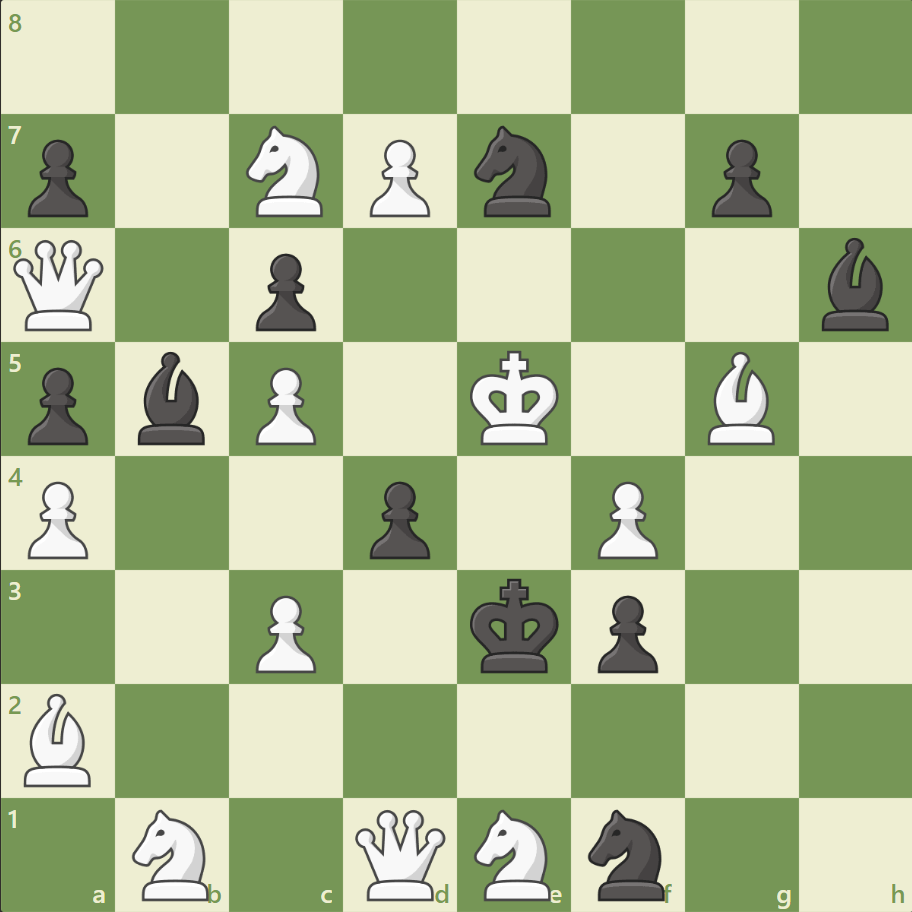B: (17, 687, 101, 790), (698, 347, 782, 449)
K: (465, 344, 565, 452)
N: (124, 802, 222, 904), (238, 121, 335, 223), (465, 802, 562, 904)
P: (247, 359, 322, 450), (20, 473, 95, 564), (247, 586, 322, 677), (361, 132, 435, 223), (588, 473, 662, 564)
Q: (10, 236, 109, 335), (351, 804, 450, 903)
b: (812, 233, 896, 336), (131, 347, 215, 449)
k: (465, 571, 565, 679)
n: (465, 121, 562, 223), (579, 802, 676, 904)
p: (20, 132, 95, 223), (701, 132, 776, 223), (247, 246, 322, 337), (20, 359, 95, 450), (361, 473, 435, 564), (588, 586, 662, 677)
